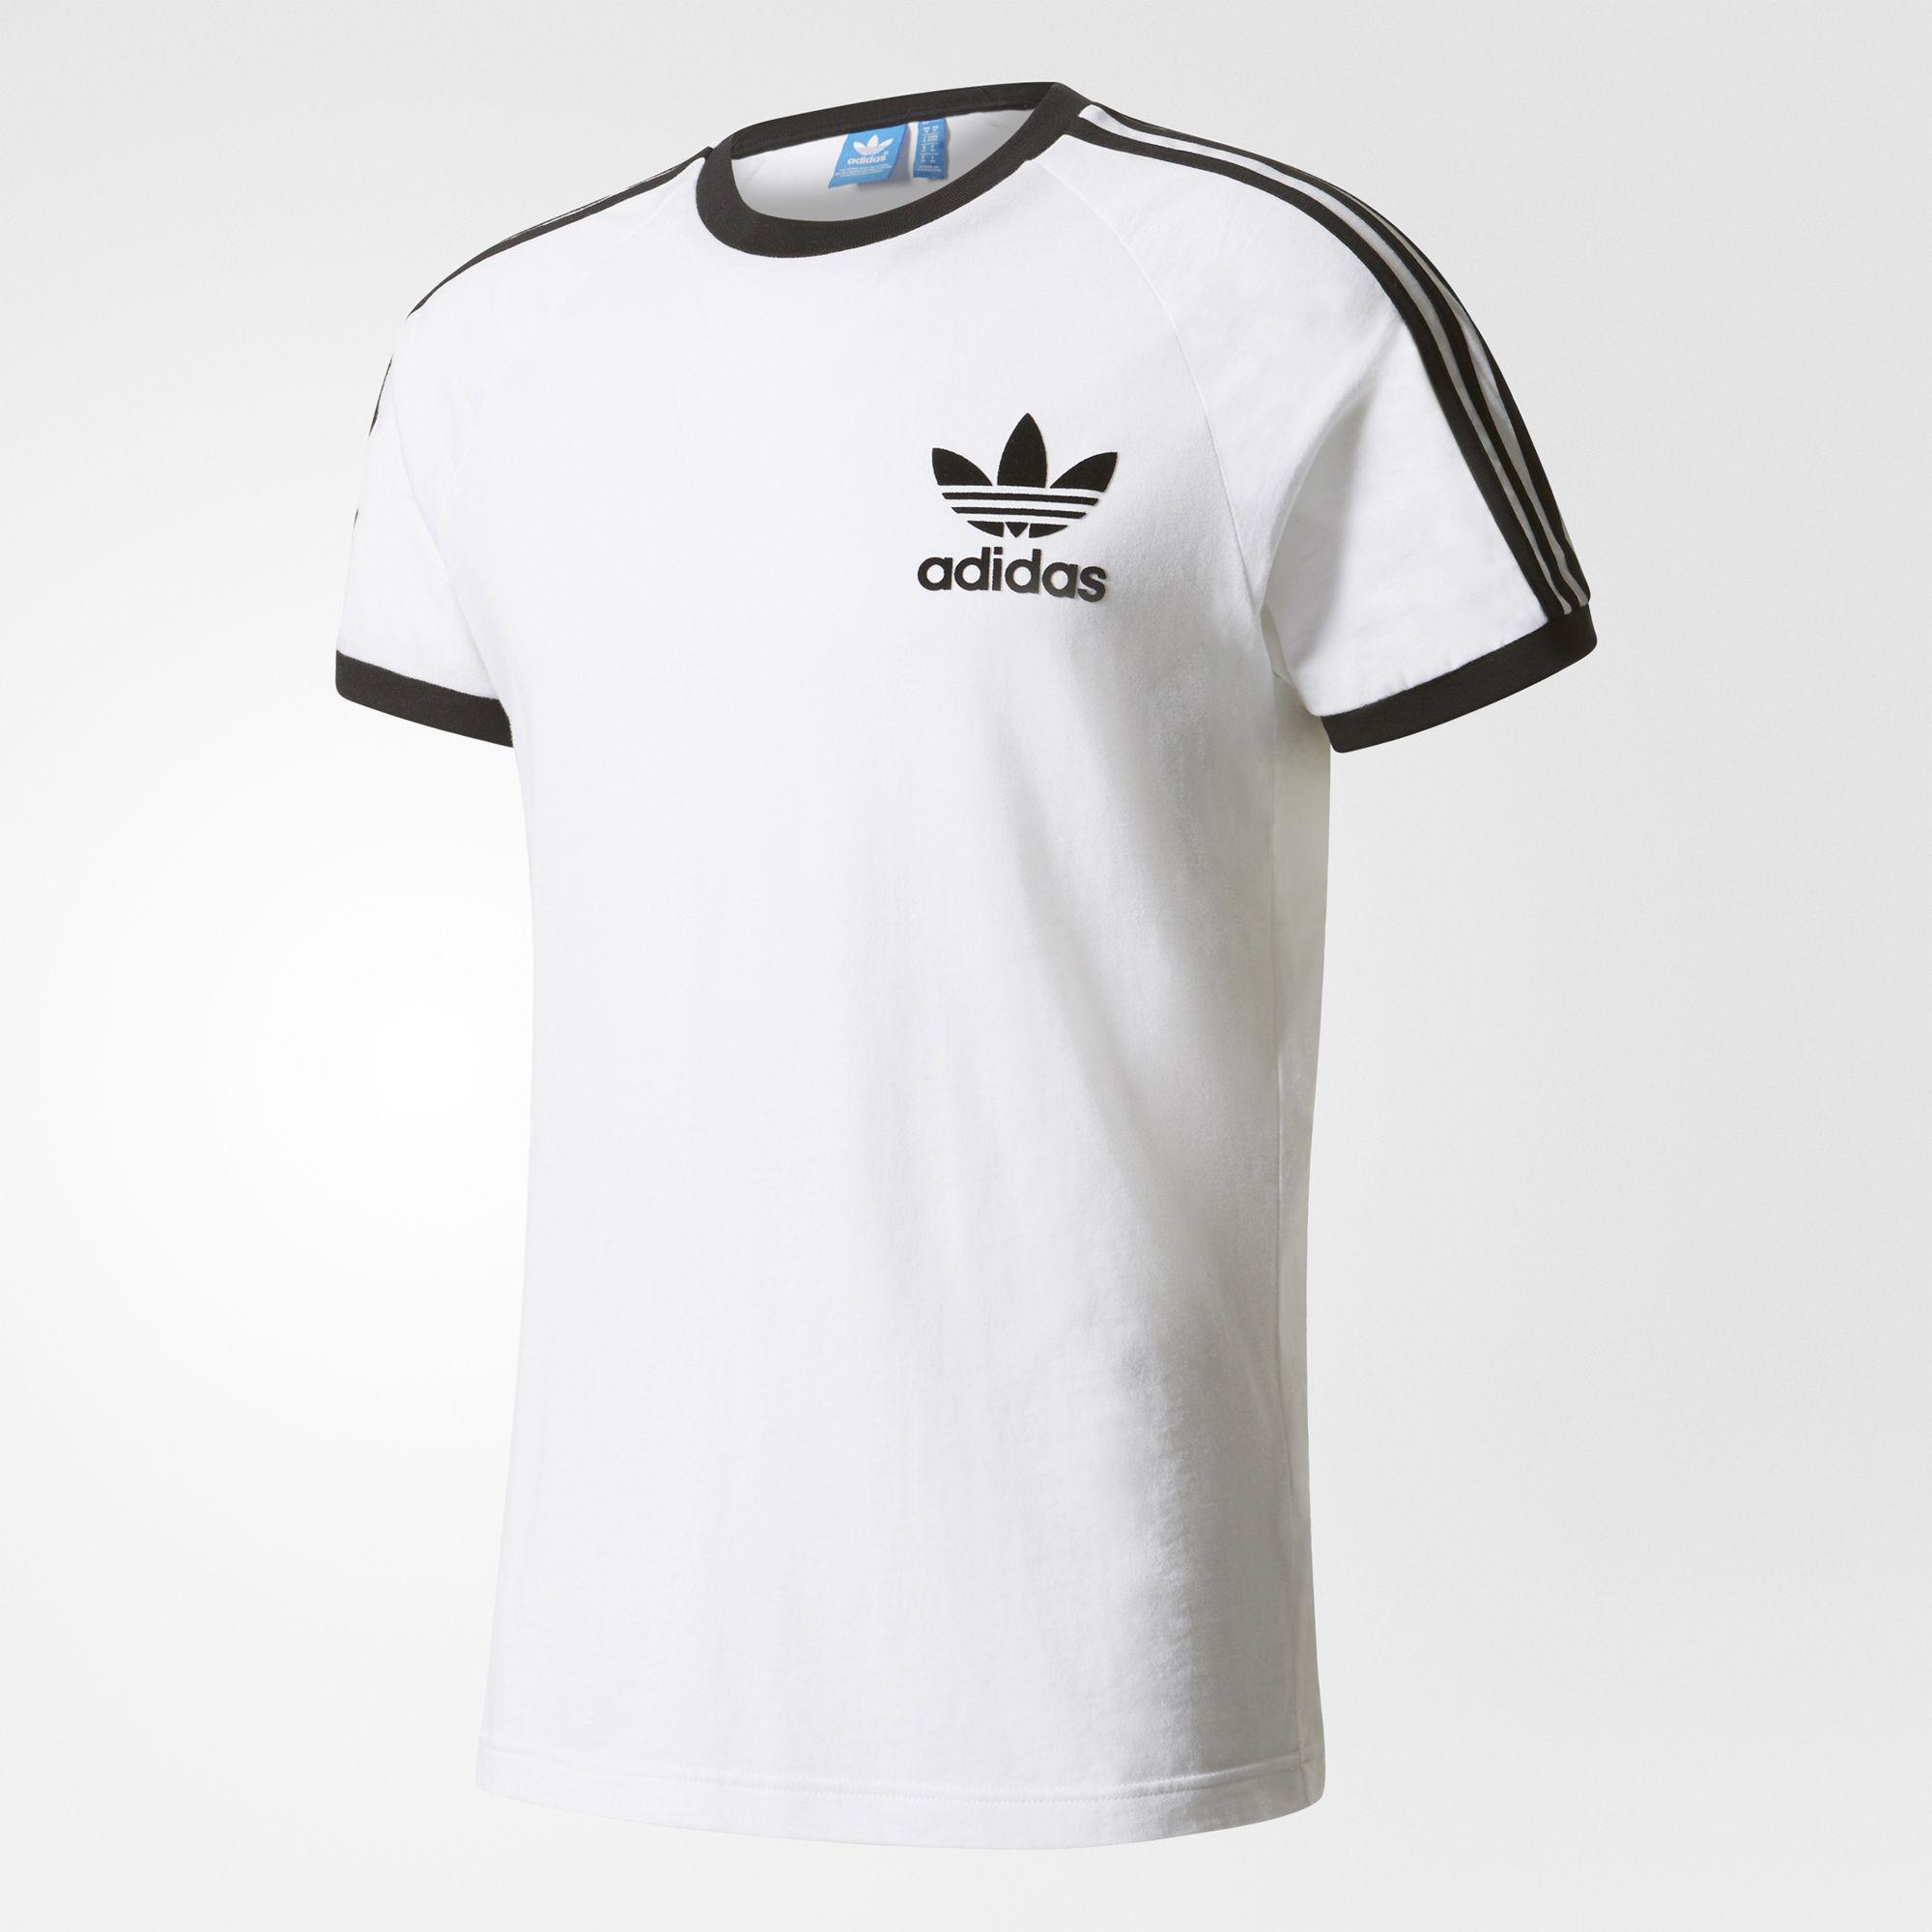teeshirt: (177, 69, 1725, 1882)
